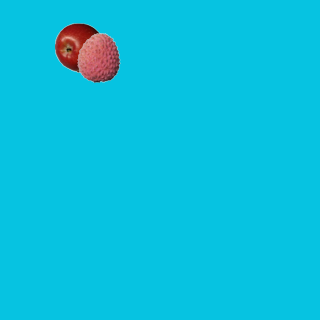Apple Braeburn: (54, 22, 104, 72)
Lychee: (73, 32, 123, 82)
